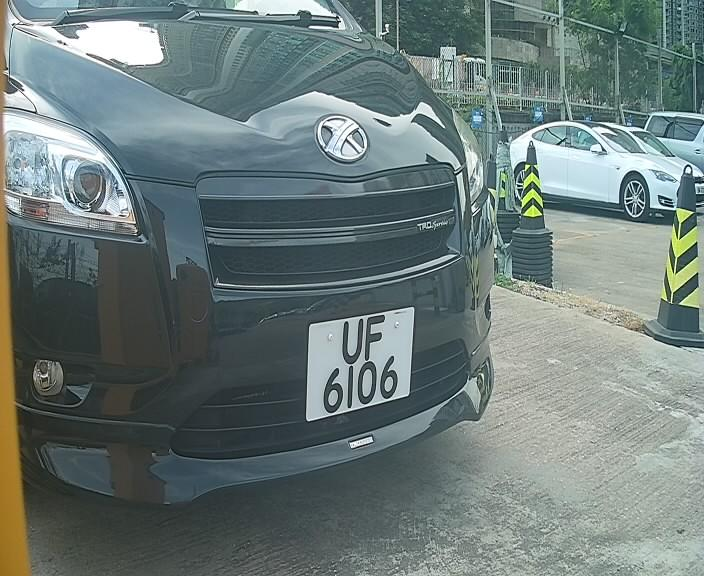License Plate: (299, 299, 415, 433)
